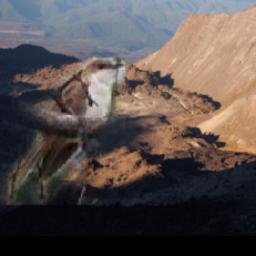Cuckoo: (0, 58, 125, 205)
